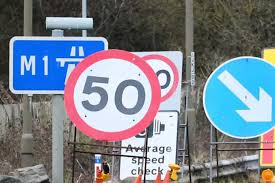Speed_limit_50km: (64, 50, 161, 141)
